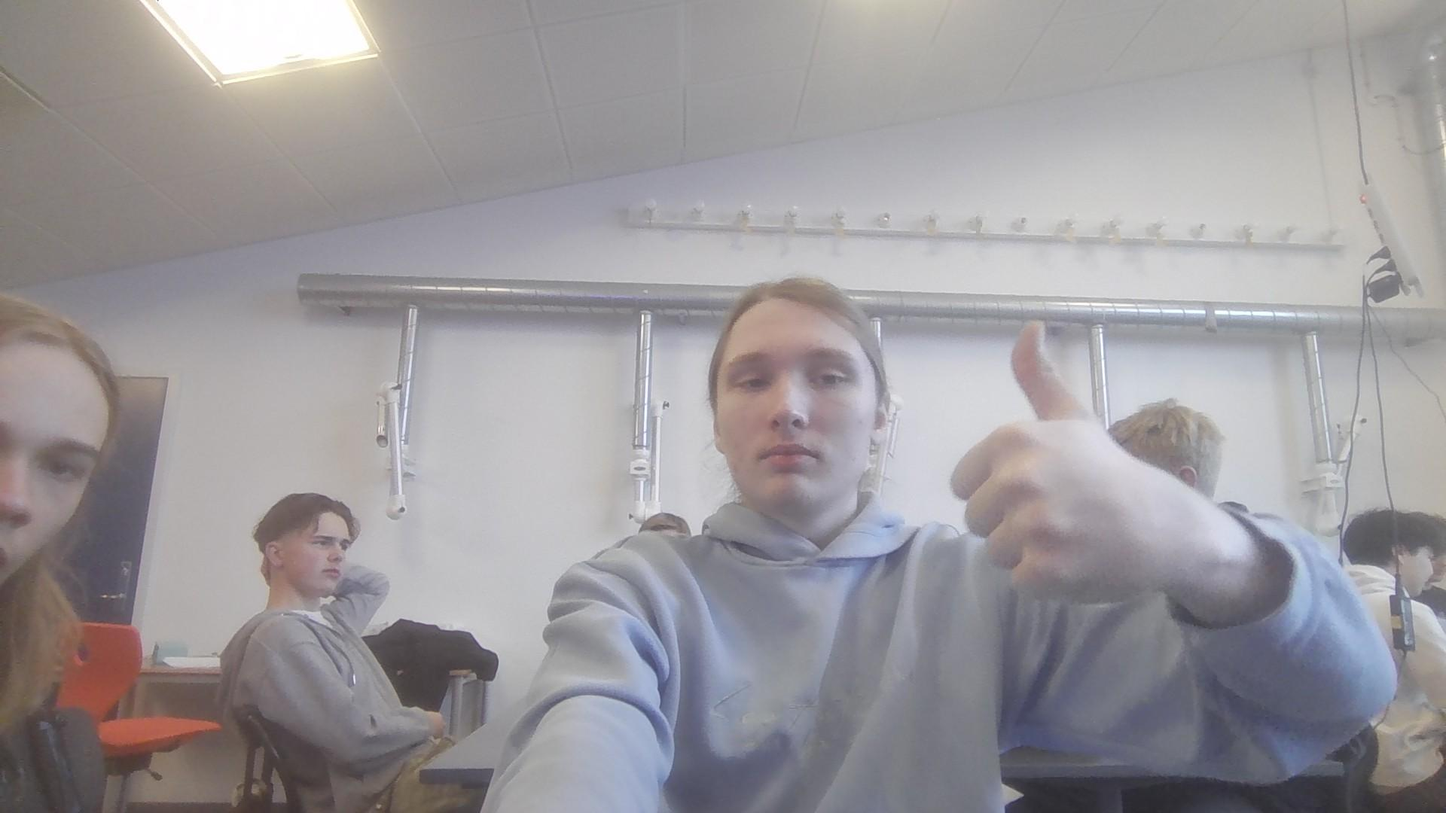thumbs up: (941, 313, 1171, 625)
